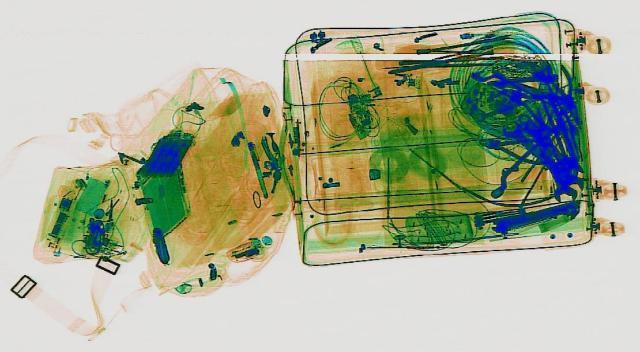Pliers: (540, 61, 594, 124), (471, 129, 554, 163)
Wrench: (496, 120, 590, 190), (509, 111, 586, 177), (520, 118, 580, 200)
